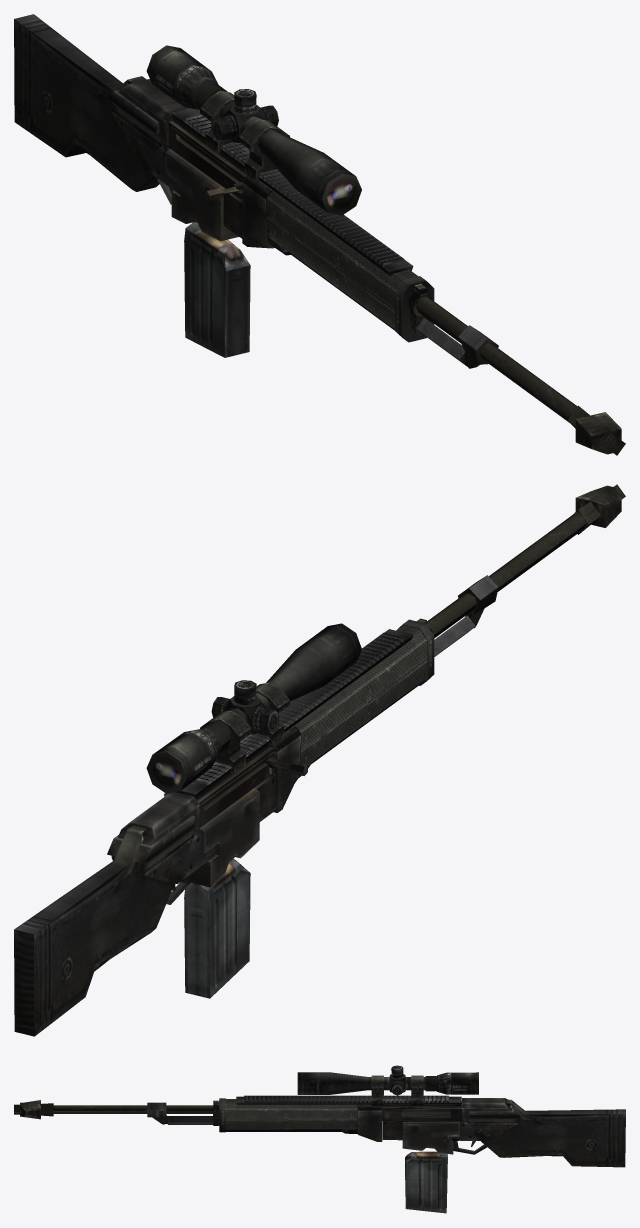
File: Sniper.FBX
3 renders of one model, top to bottom at view 1: azimuth 30°, elevation 25°; view 2: azimuth 150°, elevation 25°; view 3: azimuth 270°, elevation 25°, orthographic. The views are drawn at different scales.
Parts seen in each view (by area): view 1: Object04, Object03, Object01; view 2: Object04, Object03, Object01; view 3: Object04, Object03.
Part boxes in pixels (x1,y1,x2,y2): Object04: [14, 14, 625, 455]; Object03: [184, 222, 250, 357]; Object01: [168, 121, 246, 200]; Object04: [14, 484, 625, 1036]; Object03: [184, 858, 250, 998]; Object01: [197, 747, 307, 828]; Object04: [14, 1065, 625, 1167]; Object03: [405, 1151, 447, 1213].
Size of the model in its own units: 2.35 by 7.59 by 29.51.
